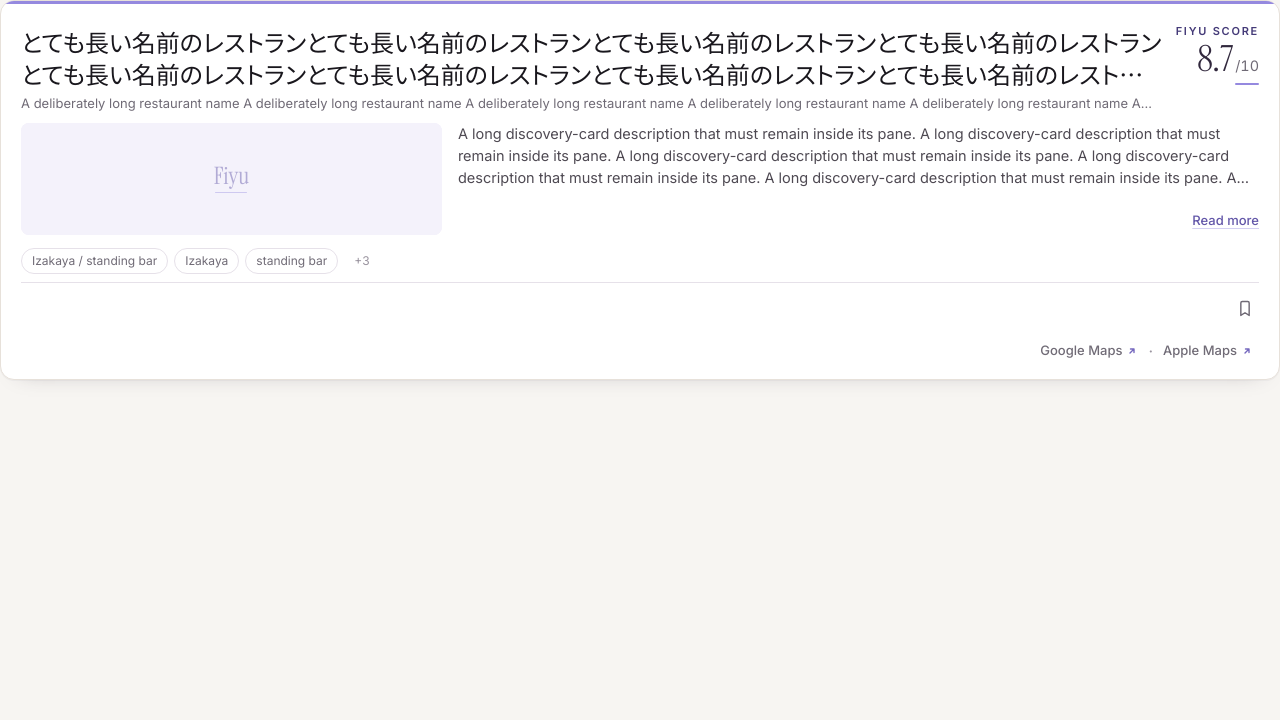
compact restaurant card content › keeps long card content and map actions inside the assigned column
The image size is (1280, 720).
Click the button "Read more": (1226, 221) [1188,207,1263,235]
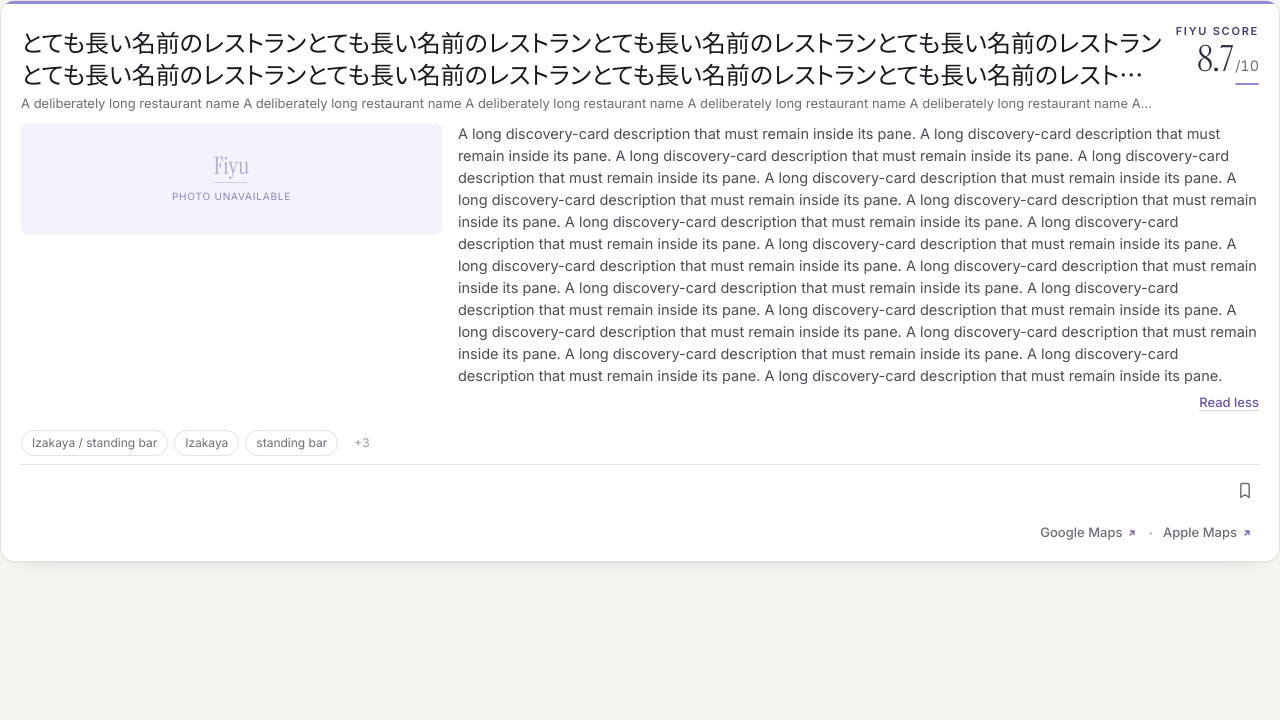
Expected: the picture named "Fiyu score 8.7 out of 10" is shown, [1176,26,1259,85]
Now the button "Read less" is expanded, box [1195,389,1263,417]
